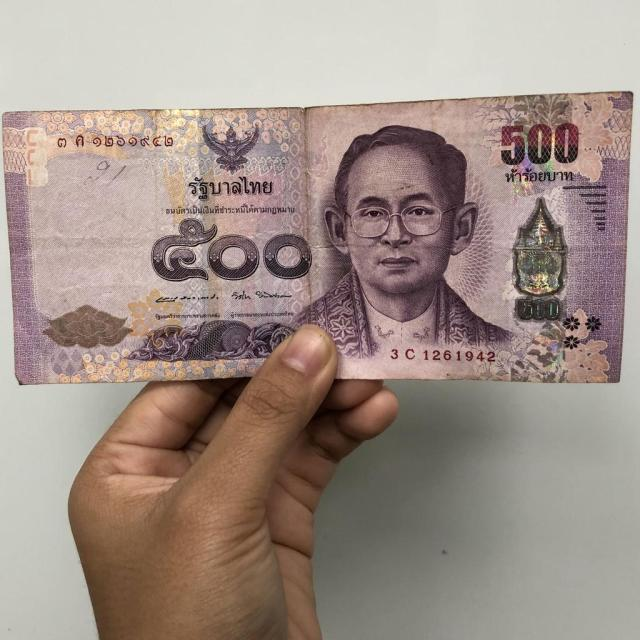THAI500: (3, 91, 633, 384)
